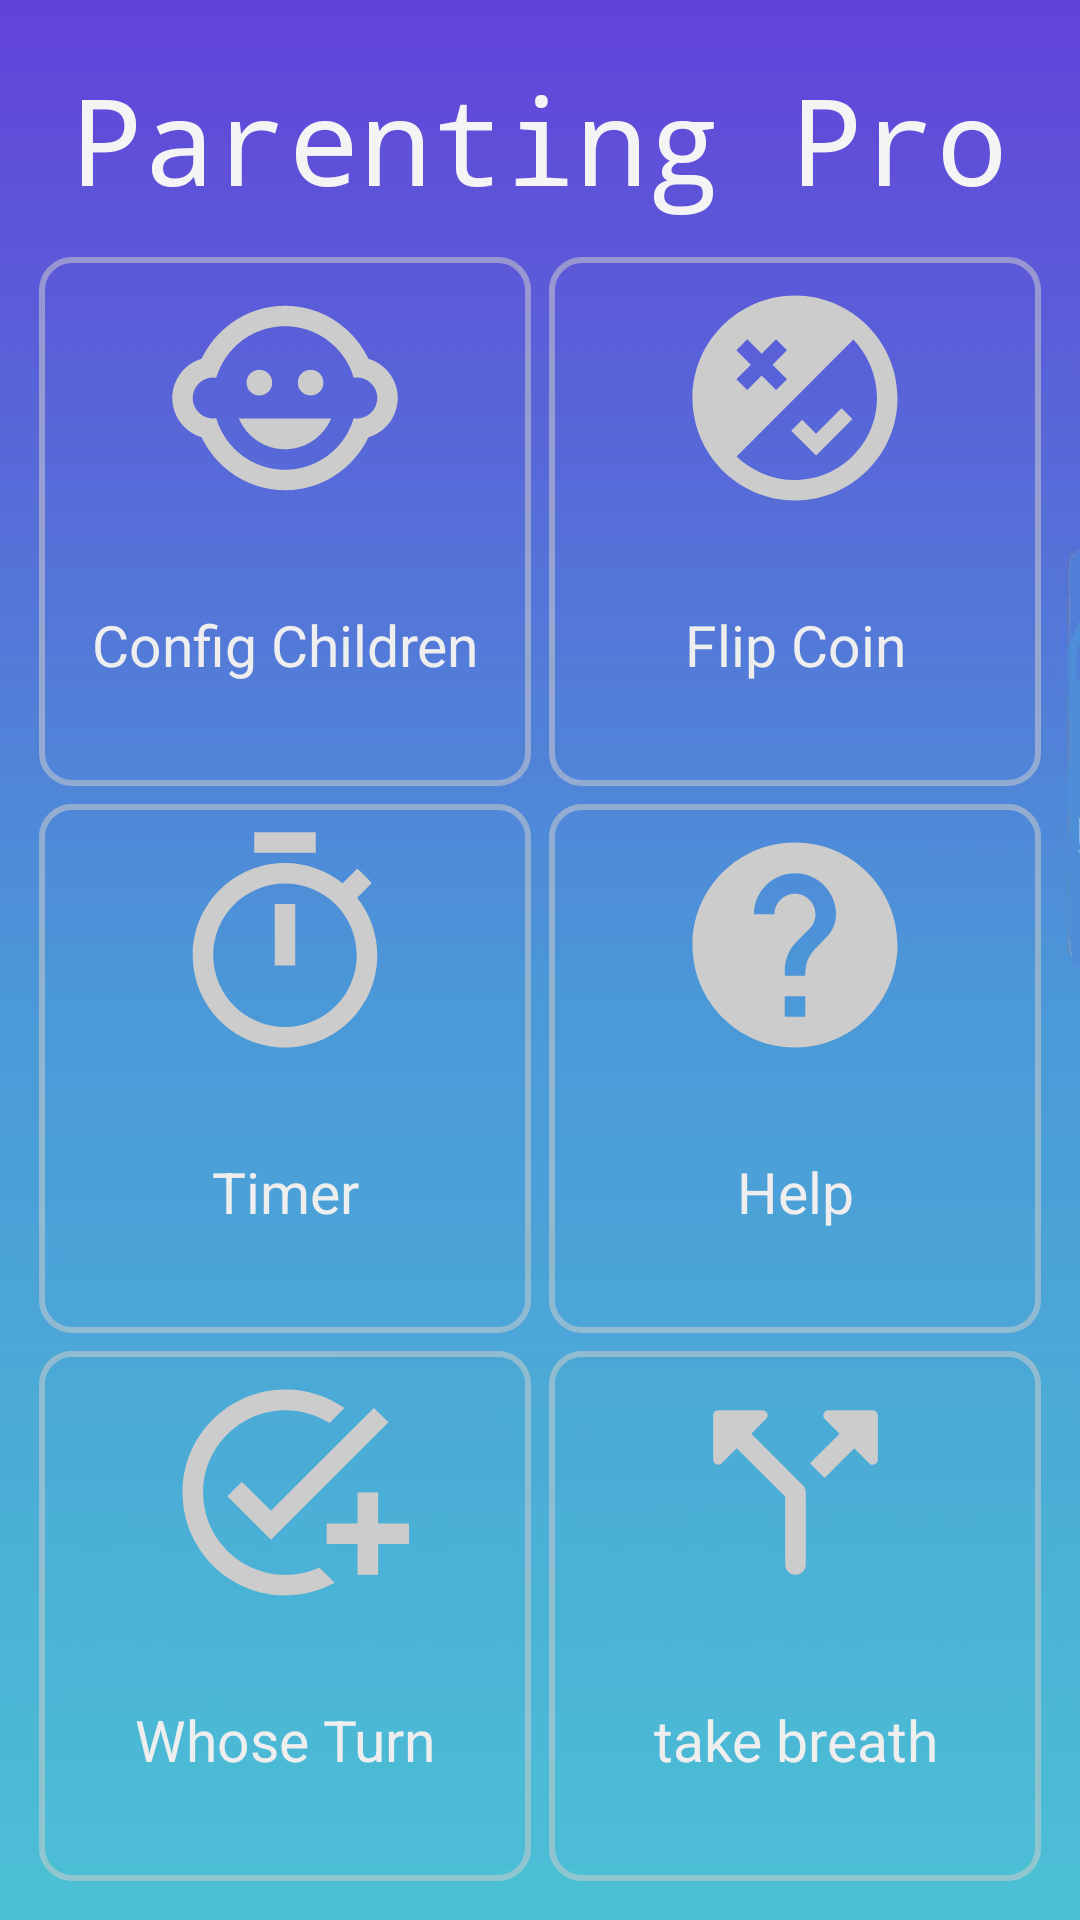

Icons on this 1080w x 1920h Android screen, each with the point to tap as (x=x, y=y):
add task: (x=295, y=1492)
call split: (x=795, y=1492)
flaky: (x=795, y=398)
